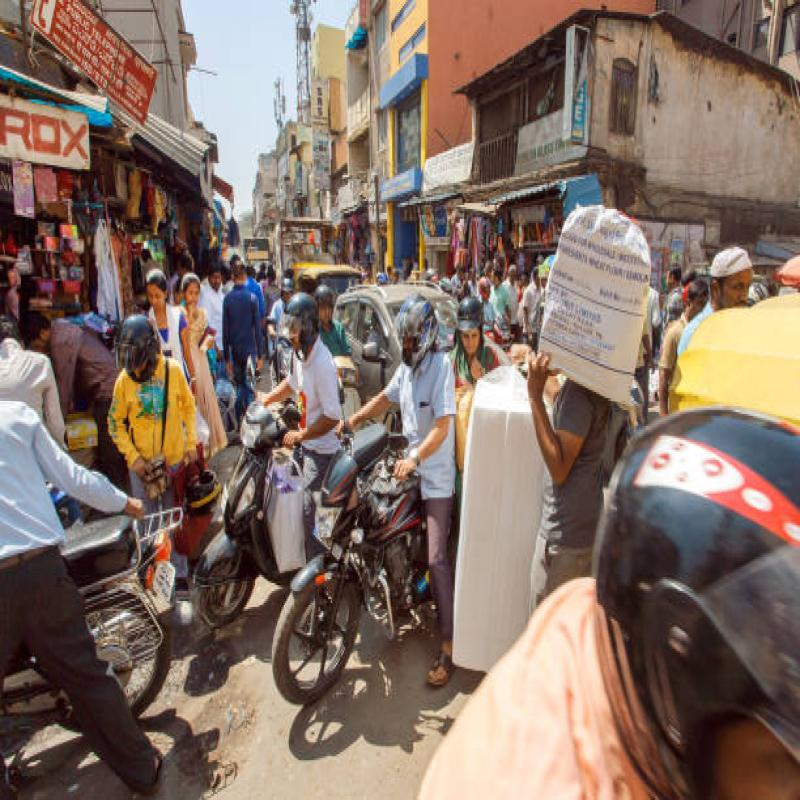bike: (289, 470, 461, 641), (226, 407, 300, 587)
